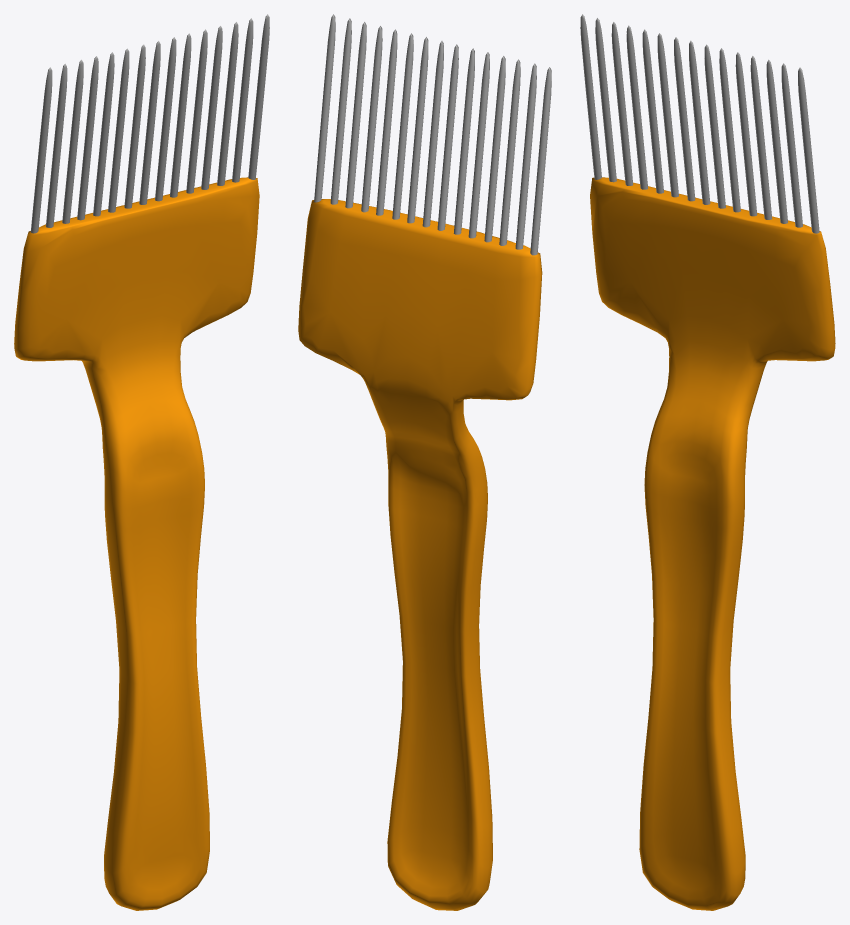
File: Mesh_Uncapping_Fork_002.fbx
3 views of the same model, side by side, from view 1: azimuth 30°, elevation 25°; view 2: azimuth 150°, elevation 25°; view 3: azimuth 330°, elevation 25° (orthographic).
Visible parts, largest first — view 1: Mesh_Uncapping_Fork.001; view 2: Mesh_Uncapping_Fork.001; view 3: Mesh_Uncapping_Fork.001.
Boxes of the visible parts, x1,y1,x2,y2 form: Mesh_Uncapping_Fork.001: [14, 14, 269, 910]; Mesh_Uncapping_Fork.001: [298, 14, 551, 910]; Mesh_Uncapping_Fork.001: [580, 14, 835, 910].
Size of the model in its own units: 222 by 783 by 72.68.
